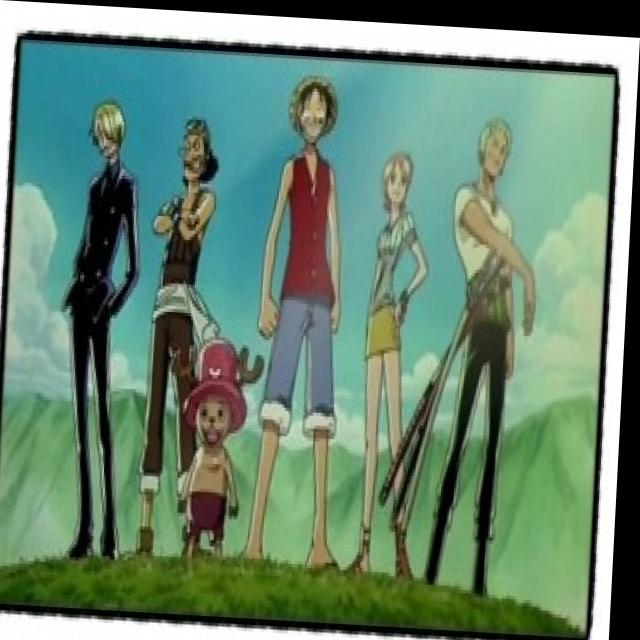Chyopa: (165, 322, 271, 568)
Luffy: (283, 68, 349, 157)
Nami: (374, 140, 423, 221)
Sangdi: (80, 88, 139, 175)
Usopp: (168, 104, 225, 198)
Zoro: (470, 105, 519, 186)
